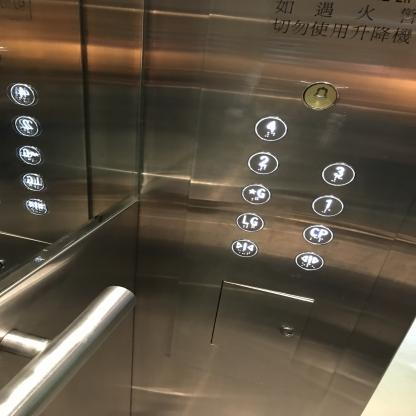1: (310, 194, 344, 217)
2: (246, 150, 280, 175)
3: (320, 162, 356, 186)
4: (254, 116, 287, 142)
CP: (302, 224, 334, 245)
LG: (234, 212, 265, 232)
alarm: (300, 81, 340, 111)
close: (230, 238, 258, 258)
open: (293, 251, 325, 271)
sG: (240, 182, 272, 205)
unknown: (8, 82, 38, 106), (12, 114, 42, 138), (15, 144, 45, 166), (21, 172, 48, 192), (23, 197, 50, 216)
